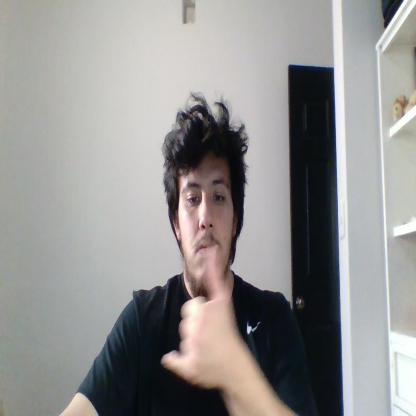Y: (162, 244, 234, 388)
